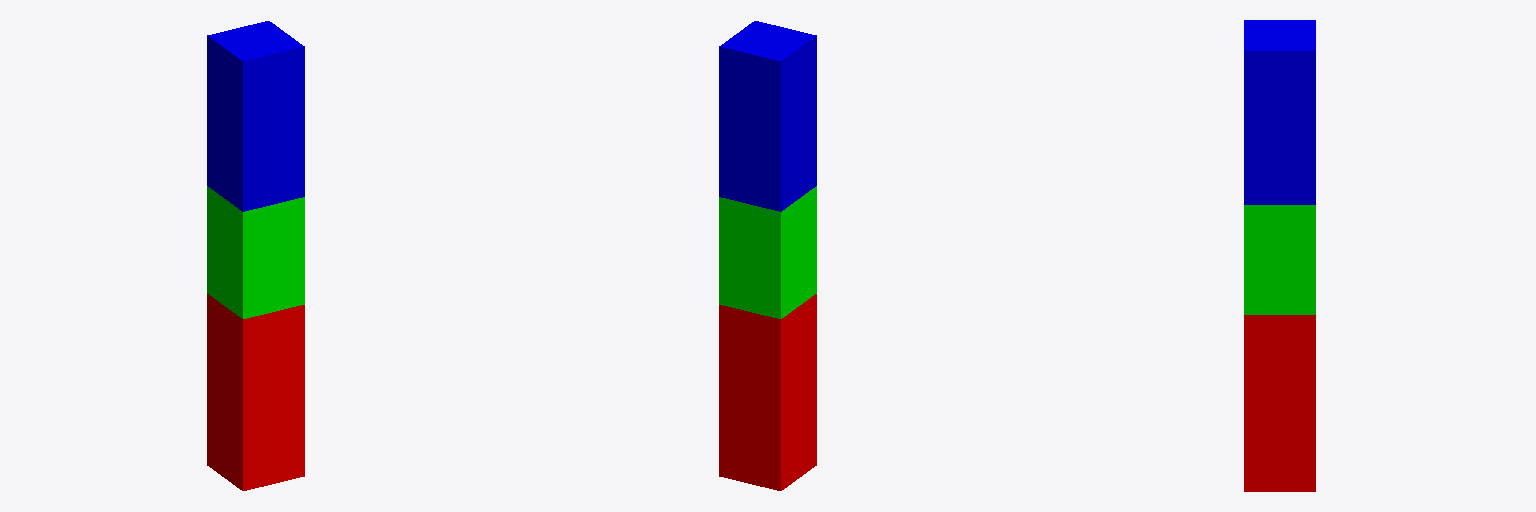
The robot description file, URDF, robot "box":
<?xml version="1.0" encoding="utf-8" ?>
<robot name="box">
    <material name="red">
        <color rgba="1 0 0 0.8"></color>
    </material>
    <material name="green">
        <color rgba="0 1 0 0.8"></color>
    </material>
    <material name="blue">
        <color rgba="0 0 1 0.8"></color>
    </material>

    <link name="base_link">
        <visual>
            <geometry>
                <box size="0.3 0.3 0.8"></box>
            </geometry>
            <material name="red"></material>
            <origin xyz="0 0 0.4"></origin>
        </visual>
    </link>
    <link name="link1">
        <visual>
            <geometry>
                <box size="0.3 0.3 0.5"></box>
            </geometry>
            <material name="green"></material>
            <origin xyz="0 0 0.25"></origin>
        </visual>
    </link>
    <link name="link2">
        <visual>
            <geometry>
                <box size="0.3 0.3 0.7"></box>
            </geometry>
            <material name="blue"></material>
            <origin xyz="0 0 0.35"></origin>
        </visual>
    </link>

    <!-- joint -->
    <joint name="joint0" type="fixed">
        <origin xyz="0 0 0.8"></origin>
        <parent link="base_link"></parent>
        <child link="link1"></child>
    </joint>
    <joint name="joint1" type="fixed">
        <origin xyz="0 0 0.5"></origin>
        <parent link="link1"></parent>
        <child link="link2"></child>
    </joint>



</robot>

--- Facts derived from the render (not from the file) ---
Views: 3 orthographic renders of the robot side by side, from view 1: azimuth 30°, elevation 25°; view 2: azimuth 150°, elevation 25°; view 3: azimuth 270°, elevation 25°.
Robot: box — 3 links, 2 joints (2 fixed); root link base_link; default pose: all joints at 0.
Links seen in each view (by area): view 1: link2, base_link, link1; view 2: link2, base_link, link1; view 3: link2, base_link, link1.
Boxes of the visible links, <box> form: link2: <box>207,21,304,211</box>; base_link: <box>207,294,304,490</box>; link1: <box>207,186,304,318</box>; link2: <box>719,21,816,211</box>; base_link: <box>719,294,816,490</box>; link1: <box>719,186,816,318</box>; link2: <box>1244,20,1315,204</box>; base_link: <box>1244,315,1315,491</box>; link1: <box>1244,205,1315,314</box>.
Bounding box of the posed robot: 0.3 × 0.3 × 2 m (x, y, z).
Geometry: primitives only (box / cylinder / sphere), no mesh files.
